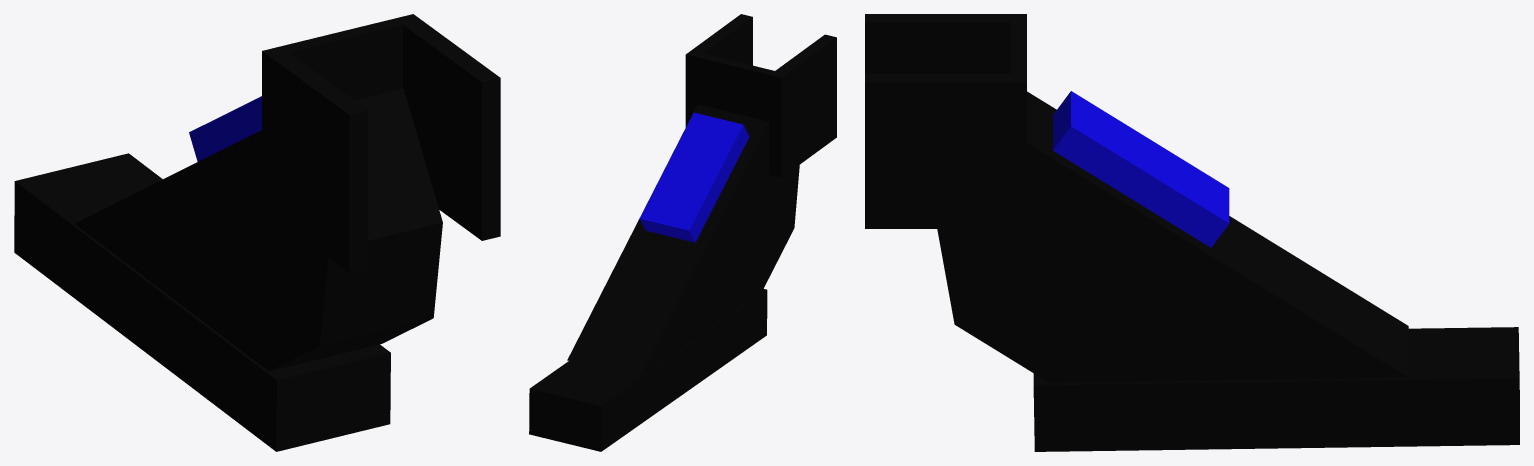
The model's file is camera_rack.fbx.
The picture shows the model from 3 angles, left to right: view 1: azimuth 30°, elevation 25°; view 2: azimuth 150°, elevation 25°; view 3: azimuth 270°, elevation 25°; orthographic projection. The views are drawn at different scales.
Visible parts, largest first — view 1: Cube.001, Cube, Cube.003, Cube.002; view 2: Cube.001, Cube.003, Cube, Cube.002; view 3: Cube.001, Cube.003, Cube, Cube.002.
Part boxes in pixels (x1,y1,x2,y2): Cube.001: (74, 88, 442, 371); Cube: (262, 14, 500, 273); Cube.003: (14, 153, 390, 451); Cube.002: (189, 96, 261, 161); Cube.001: (567, 104, 799, 377); Cube.003: (529, 289, 767, 451); Cube: (685, 14, 836, 177); Cube.002: (639, 112, 749, 242); Cube.001: (937, 91, 1408, 382); Cube.003: (1033, 327, 1519, 451); Cube: (865, 14, 1026, 228); Cube.002: (1053, 91, 1229, 247).
Size of the model in its own units: 200 by 516 by 810.
